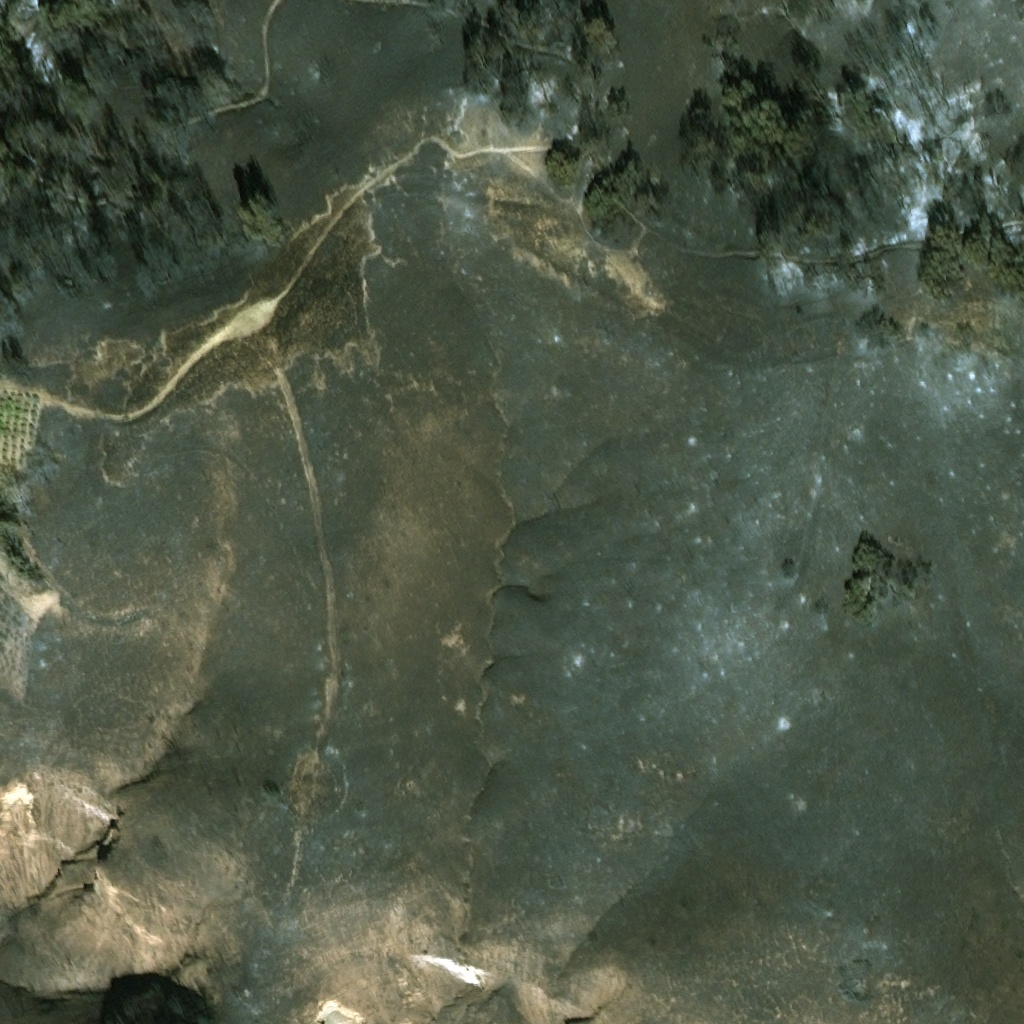3 destroyed: (11, 542, 35, 572)
